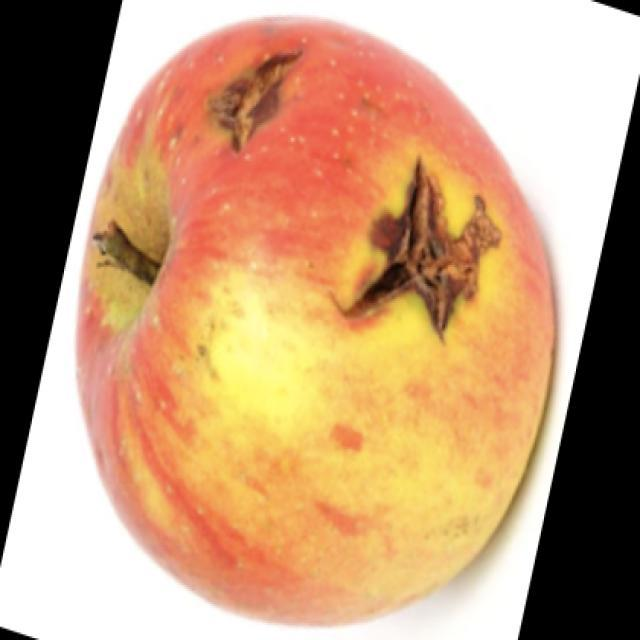Rotten: (92, 30, 538, 628)
